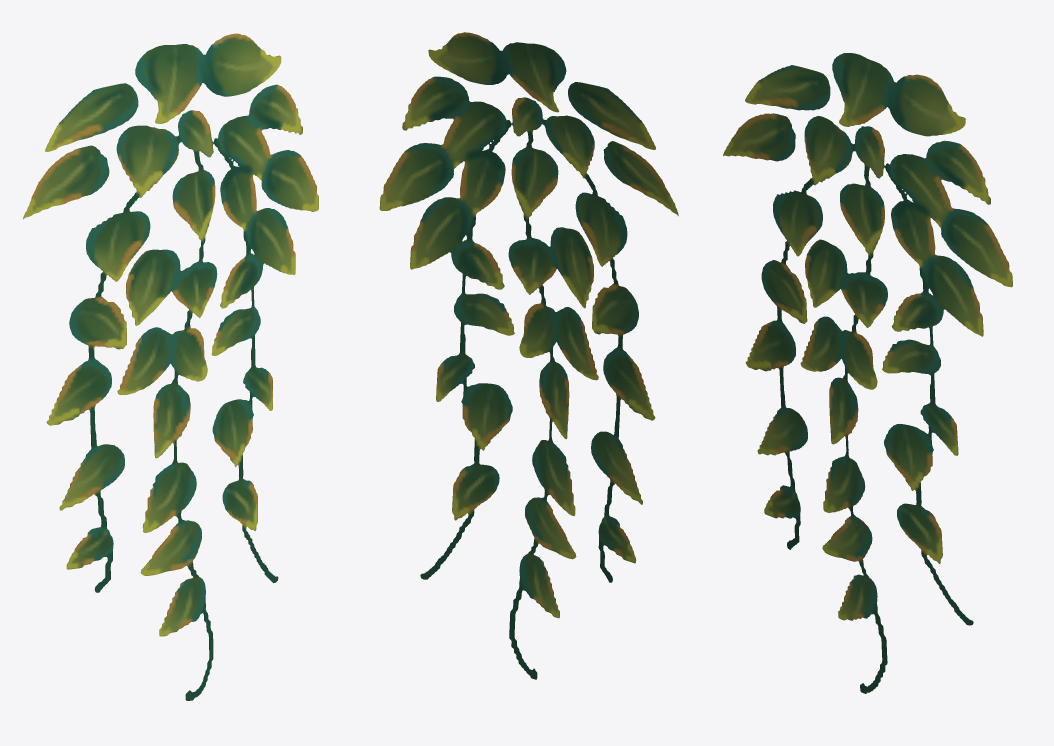
File: hanging_foliage_clump2.fbx
3 renders of one model, left to right at view 1: azimuth 30°, elevation 25°; view 2: azimuth 150°, elevation 25°; view 3: azimuth 330°, elevation 25°, orthographic. The views are drawn at different scales.
Parts seen in each view (by area): view 1: hangling_foliage_clump2; view 2: hangling_foliage_clump2; view 3: hangling_foliage_clump2.
Boxes of the visible parts, x1,y1,x2,y2 form: hangling_foliage_clump2: (23,33,318,700); hangling_foliage_clump2: (379,32,678,679); hangling_foliage_clump2: (723,53,1012,693).
Bounding box in the file's own units: 28.53 × 57.15 × 4.55.
